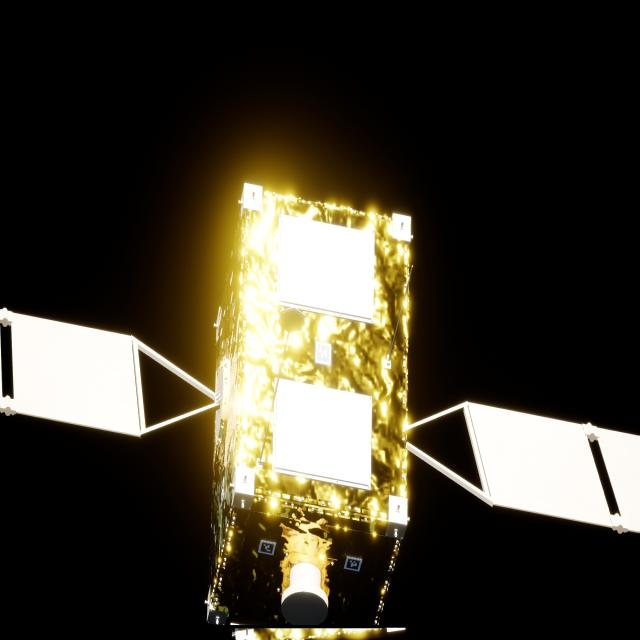medium_debris: (0, 184, 640, 637)
